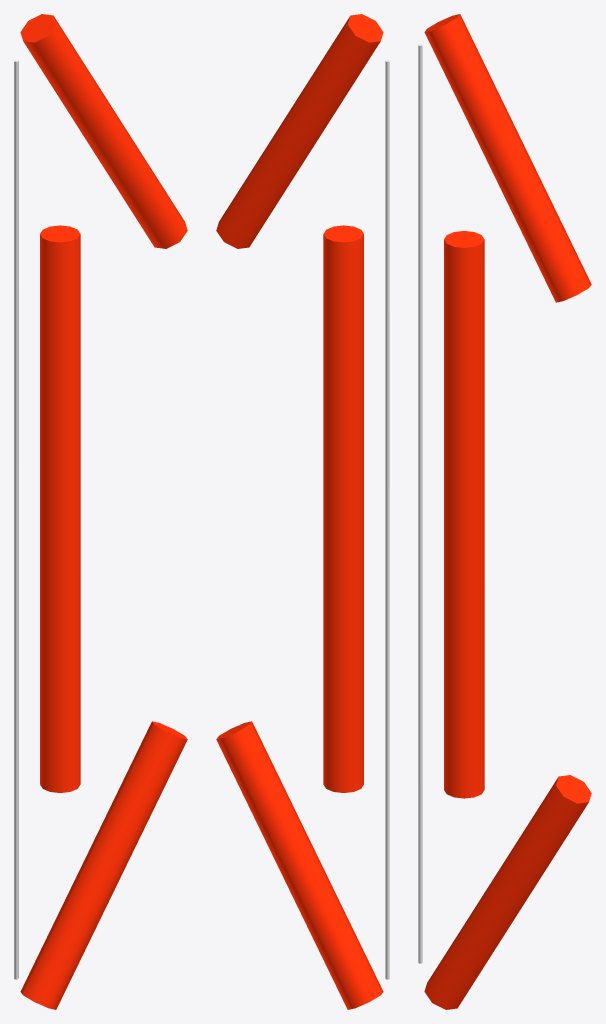
The model's file is fire_bow.glb.
3 views of the same model, side by side, from view 1: azimuth 30°, elevation 25°; view 2: azimuth 150°, elevation 25°; view 3: azimuth 330°, elevation 25° (orthographic).
Parts seen in each view (by area): view 1: Bow; view 2: Bow; view 3: Bow.
Part boxes in pixels (x1,y1,x2,y2): Bow: [14, 14, 187, 1009]; Bow: [216, 14, 389, 1009]; Bow: [418, 14, 591, 1009].
Size of the model in its own units: 0.3896 by 2.16 by 0.08.
